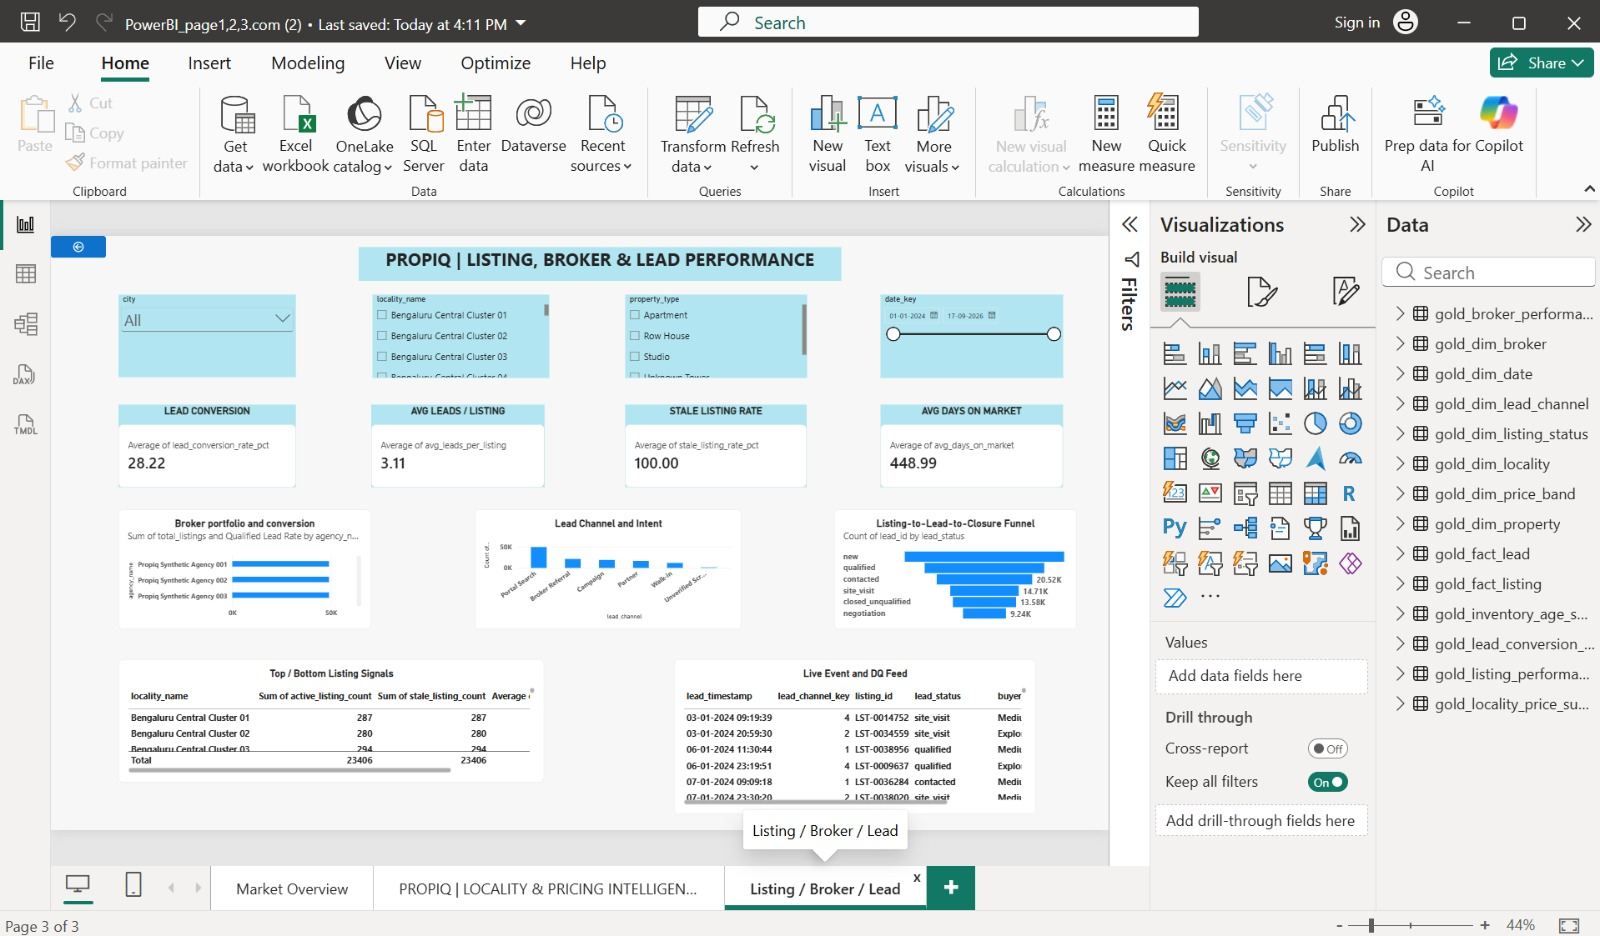

The page's visual inventory and layout, read from the dashboard file:
{"tool":"powerbi","page":{"name":"Listing / Broker / Lead","canvas":[1920,1080],"ordinal":2},"visuals":[{"type":"textbox","box":[0,0,1920,68],"z":0},{"type":"slicer","fields":{"Values":["gold_dim_locality.city"]},"box":[123.1,106.8,322.1,150.2],"z":1000},{"type":"slicer","fields":{"Values":["gold_dim_locality.locality_name"]},"box":[582.7,106.8,320.3,149.9],"z":2000},{"type":"slicer","fields":{"Values":["gold_dim_property.property_type"]},"box":[1042.4,106.8,329.3,149.9],"z":3000},{"type":"slicer","fields":{"Values":["gold_dim_date.date_key"]},"box":[1505.6,106.8,331.2,150.2],"z":4000},{"type":"cardVisual","title":"LEAD CONVERSION","fields":{"Data":["Avg(gold_lead_conversion_summary.lead_conversion_rate_pct)"]},"box":[123.1,307.6,322.1,150.2],"z":5000},{"type":"cardVisual","title":"AVG LEADS / LISTING","fields":{"Data":["Avg(gold_lead_conversion_summary.avg_leads_per_listing)"]},"box":[580.9,307.6,314.9,150.2],"z":6000},{"type":"cardVisual","title":"STALE LISTING RATE","fields":{"Data":["Avg(gold_inventory_age_summary.stale_listing_rate_pct)"]},"box":[1042.4,307.6,329.4,150.2],"z":7000},{"type":"cardVisual","title":"AVG DAYS ON MARKET","fields":{"Data":["Avg(gold_listing_performance_summary.avg_days_on_market)"]},"box":[1505.6,307.6,331.2,150.2],"z":8000},{"type":"clusteredBarChart","title":"Broker portfolio and conversion","fields":{"Category":["gold_broker_performance_summary.agency_name"],"Y":["Sum(gold_listing_performance_summary.total_listings)"]},"box":[123.1,497.7,457.8,217.2],"z":9000},{"type":"clusteredColumnChart","title":"Lead Channel and Intent","fields":{"Category":["gold_dim_lead_channel.lead_channel"],"Y":["CountNonNull(gold_fact_lead.lead_id)"]},"box":[769.1,497.7,483.2,217.2],"z":10000},{"type":"funnel","title":"Listing-to-Lead-to-Closure Funnel","fields":{"Category":["gold_fact_lead.lead_status"],"Y":["CountNonNull(gold_fact_lead.lead_id)"]},"box":[1422.4,497.7,439.7,217.2],"z":11000},{"type":"tableEx","title":"Top / Bottom Listing Signals","fields":{"Values":["gold_dim_locality.locality_name","Sum(gold_listing_performance_summary.active_listing_count)","Sum(gold_listing_performance_summary.stale_listing_count)","Avg(gold_listing_performance_summary.avg_days_on_market)"]},"box":[90.9,770,869.9,222.6],"z":12000},{"type":"actionButton","box":[0,0,100,40],"z":13000},{"type":"tableEx","title":"Live Event and DQ Feed","fields":{"Values":["gold_fact_lead.lead_timestamp","gold_fact_lead.lead_channel_key","gold_fact_lead.listing_id","gold_fact_lead.lead_status","gold_fact_lead.buyer_intent","gold_fact_lead.qualified_flag"]},"box":[1131.1,770,754.1,281.6],"z":14000}]}

Visuals, with their boxes on the page's 1920x1080 design canvas (x1, y1, x2, y2). These are canvas units, not pixel positions in the 1600x936 screenshot, which may show the page scaled, cropped or inside an application window:
textbox: 0, 0, 1920, 68
slicer - gold_dim_locality.city: 123, 107, 445, 257
slicer - gold_dim_locality.locality_name: 583, 107, 903, 257
slicer - gold_dim_property.property_type: 1042, 107, 1372, 257
slicer - gold_dim_date.date_key: 1506, 107, 1837, 257
"LEAD CONVERSION" cardVisual: 123, 308, 445, 458
"AVG LEADS / LISTING" cardVisual: 581, 308, 896, 458
"STALE LISTING RATE" cardVisual: 1042, 308, 1372, 458
"AVG DAYS ON MARKET" cardVisual: 1506, 308, 1837, 458
"Broker portfolio and conversion" clusteredBarChart: 123, 498, 581, 715
"Lead Channel and Intent" clusteredColumnChart: 769, 498, 1252, 715
"Listing-to-Lead-to-Closure Funnel" funnel: 1422, 498, 1862, 715
"Top / Bottom Listing Signals" tableEx: 91, 770, 961, 993
actionButton: 0, 0, 100, 40
"Live Event and DQ Feed" tableEx: 1131, 770, 1885, 1052
